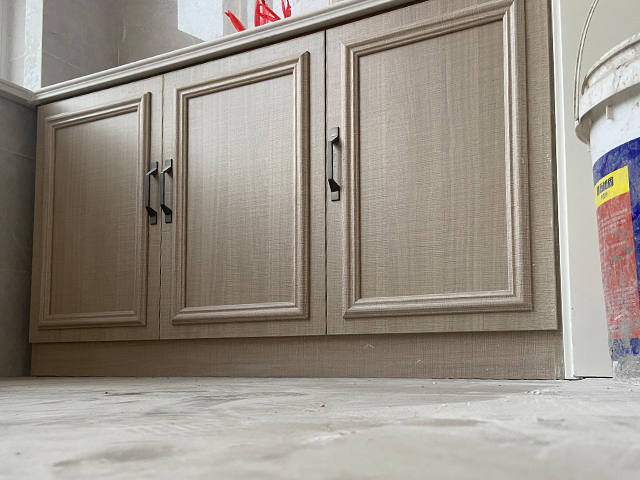cabinet: (1, 1, 581, 381)
